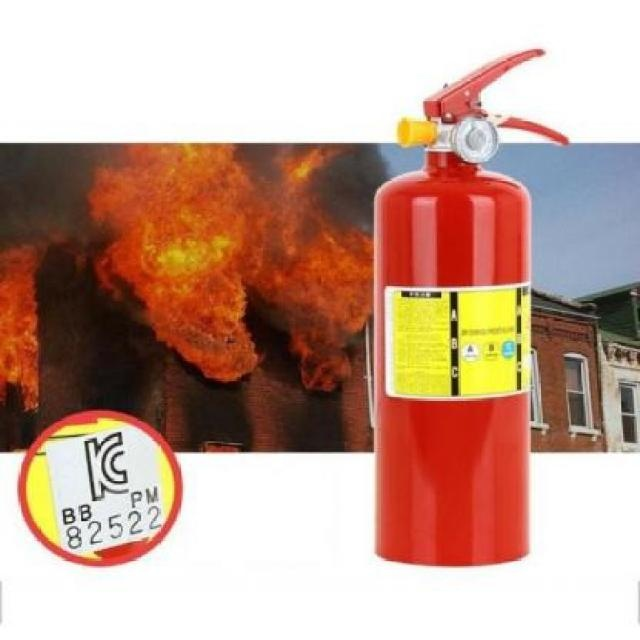fire extinguisher: (373, 46, 570, 568)
